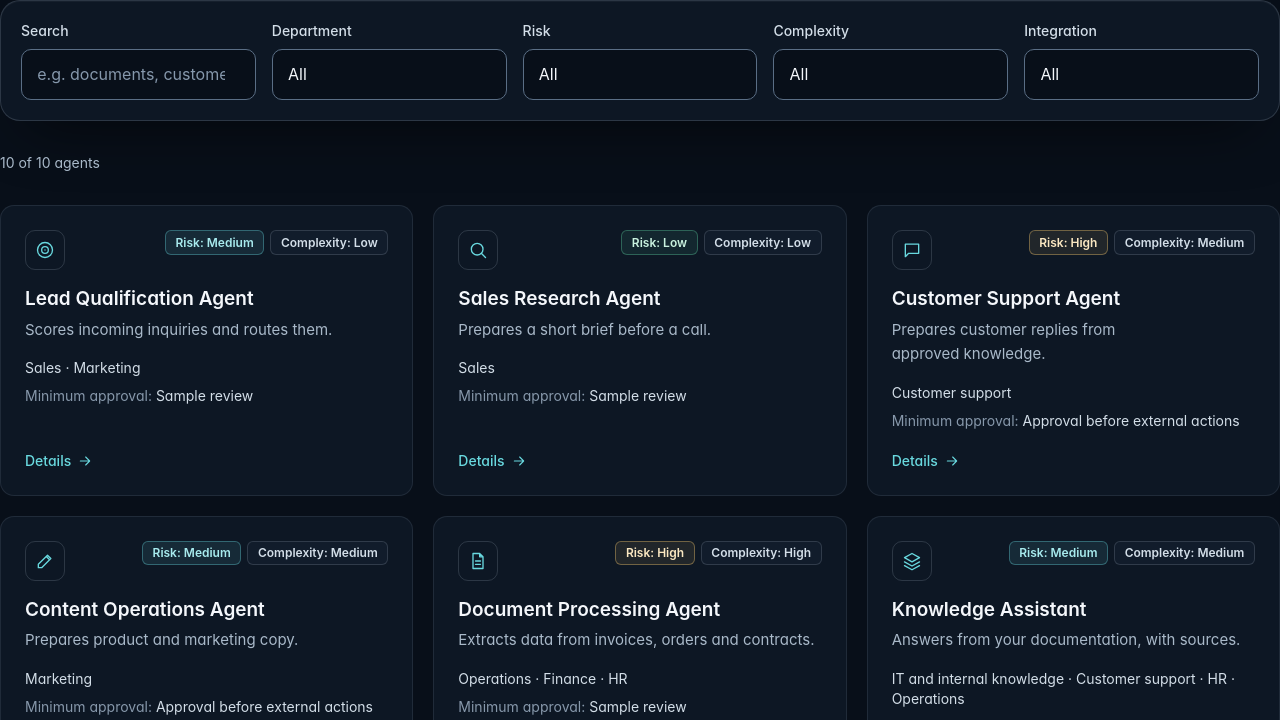
agent library browser › filters by risk, integration and text, and resets
Select "High" in the dropdown labelled "Risk" at (640, 74), box [523,49,757,100]
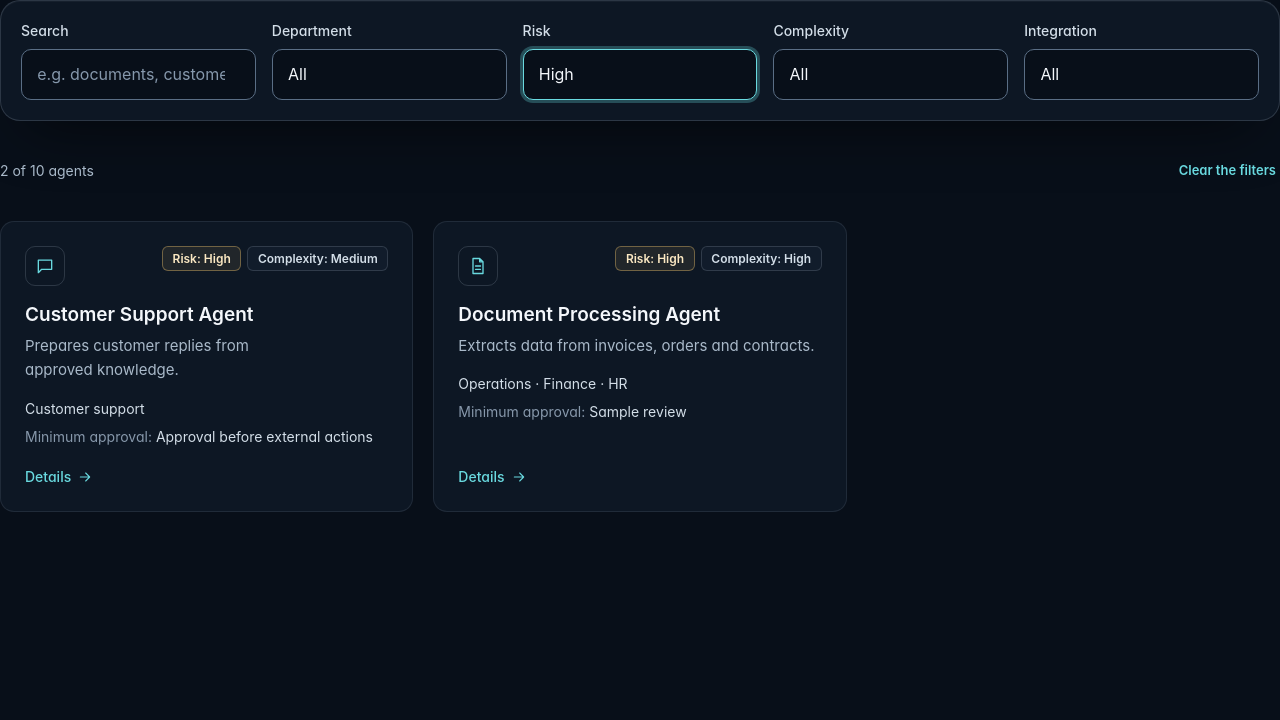
Select "ERP and business systems" in the dropdown labelled "Integration" at (1142, 74), box [1024,49,1259,100]
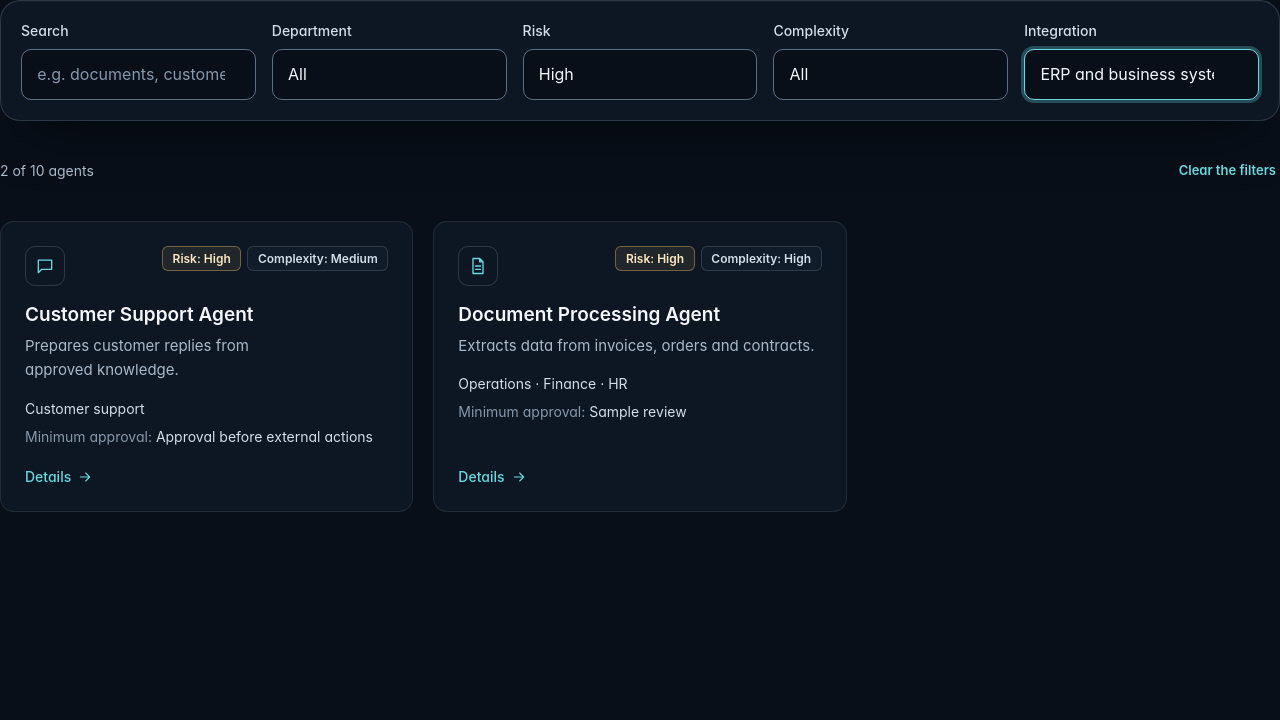
Type "invoices" into the search field labelled "Search" at (138, 74), box [21,49,256,100]
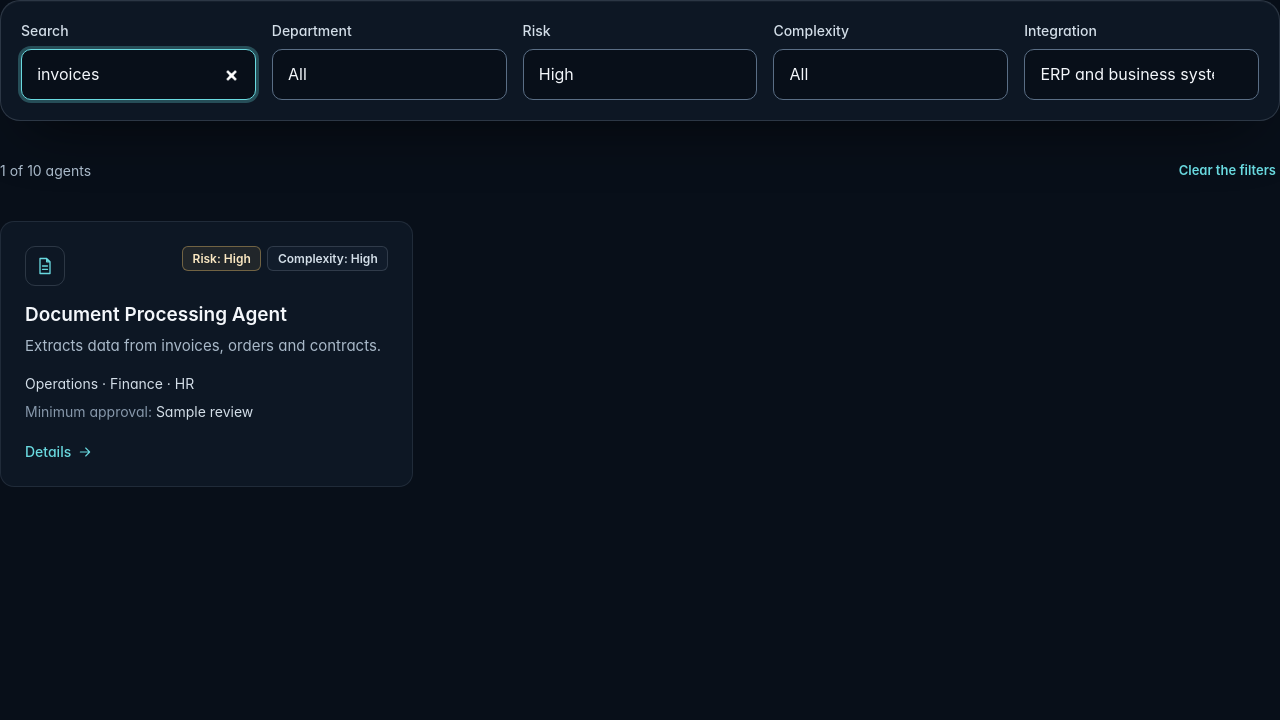
Type " zzz" into the search field labelled "Search" at (138, 74), box [21,49,256,100]
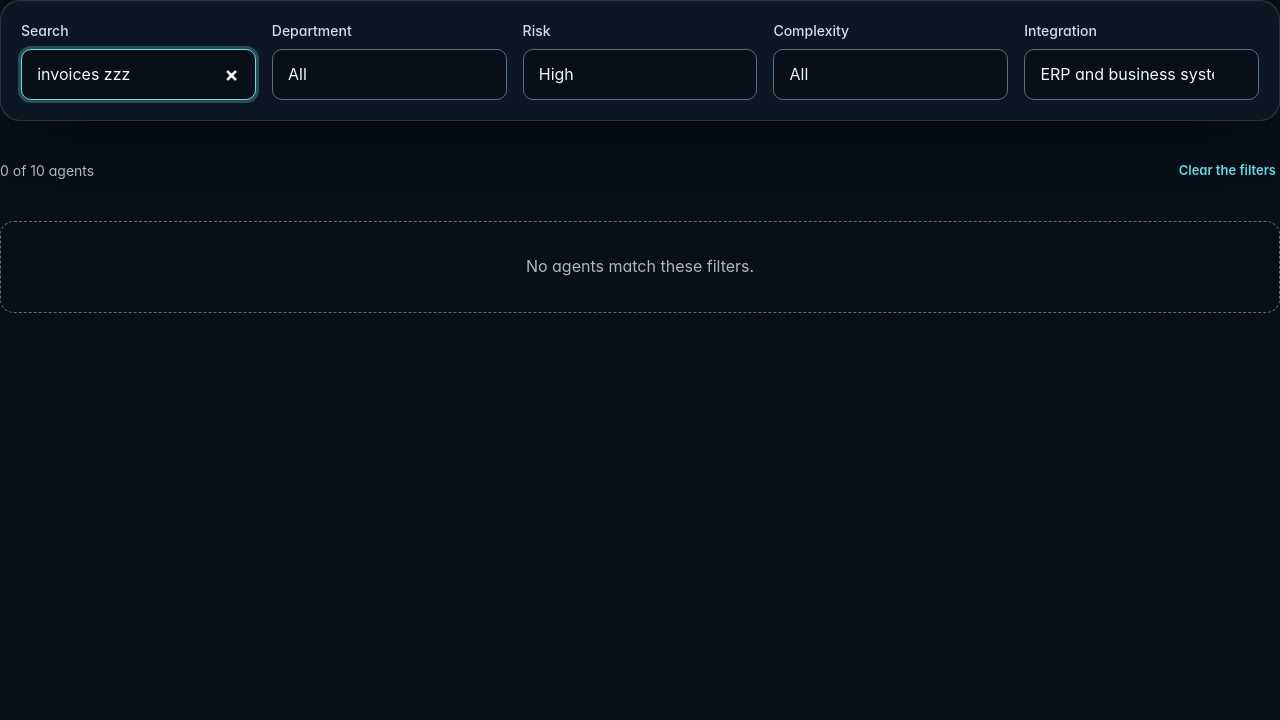
Expected: the text "No agents match these filters." is shown, [0,221,1279,313]
Click the button "Clear the filters" at (1227, 171), box [1175,153,1279,189]
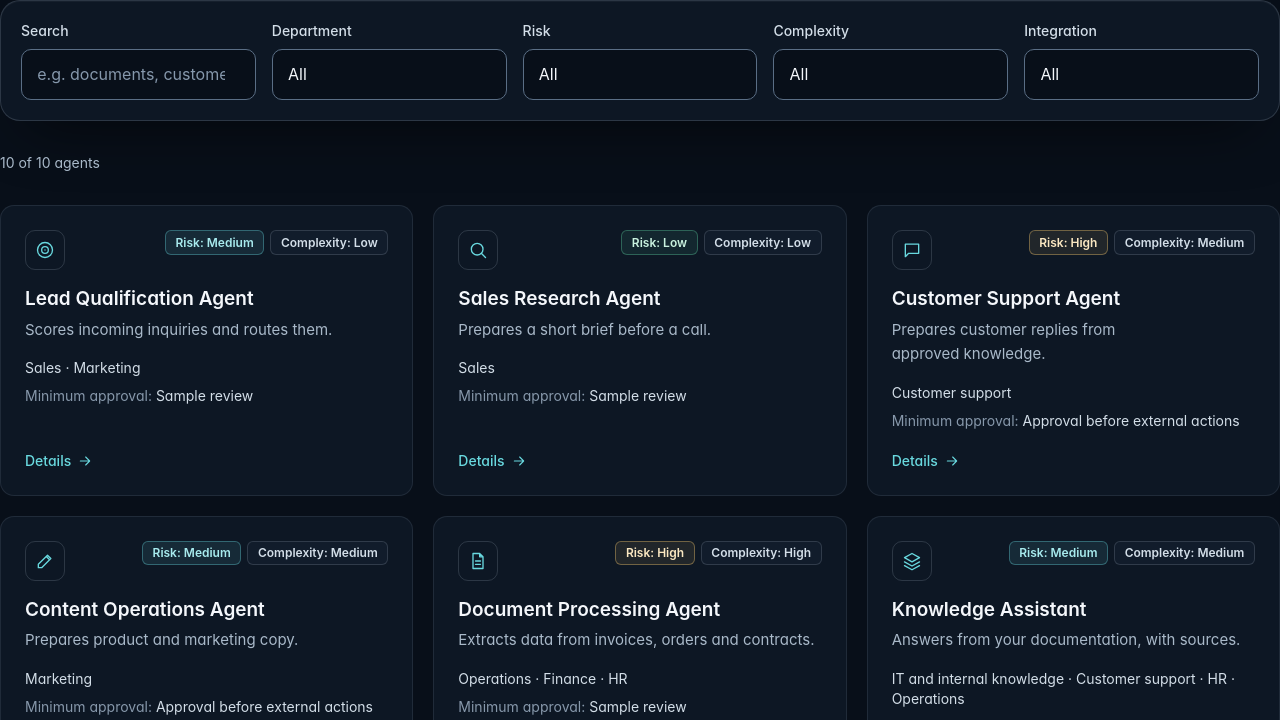
Expected: the number of links is 10
